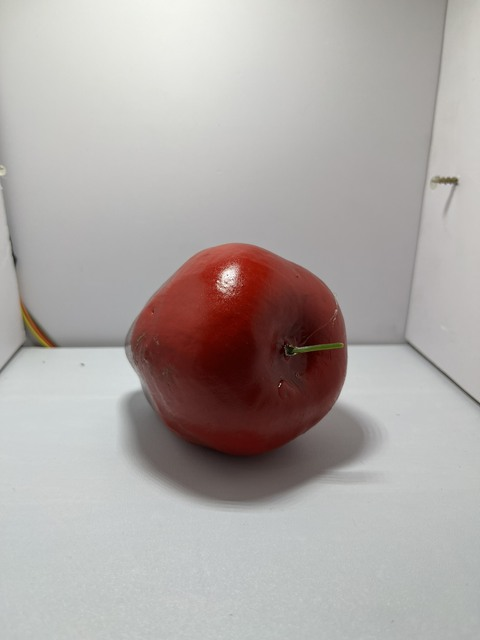Tao: (115, 242, 352, 463)
